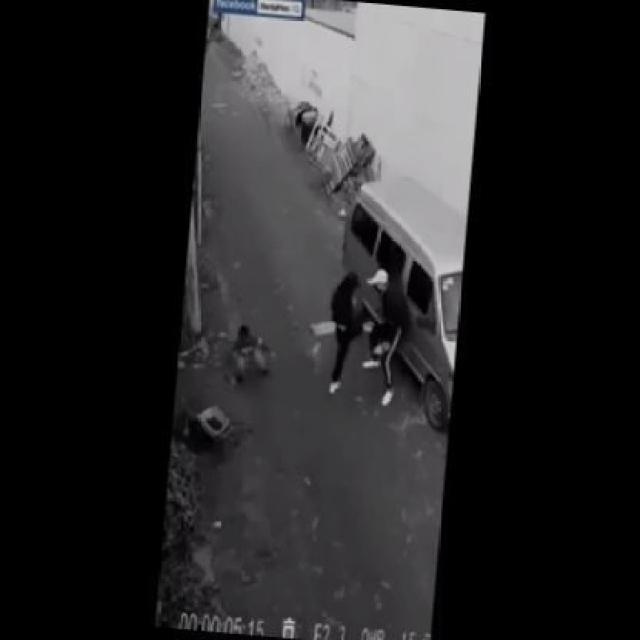fight: (325, 265, 411, 405)
non-fight: (231, 323, 272, 384)
